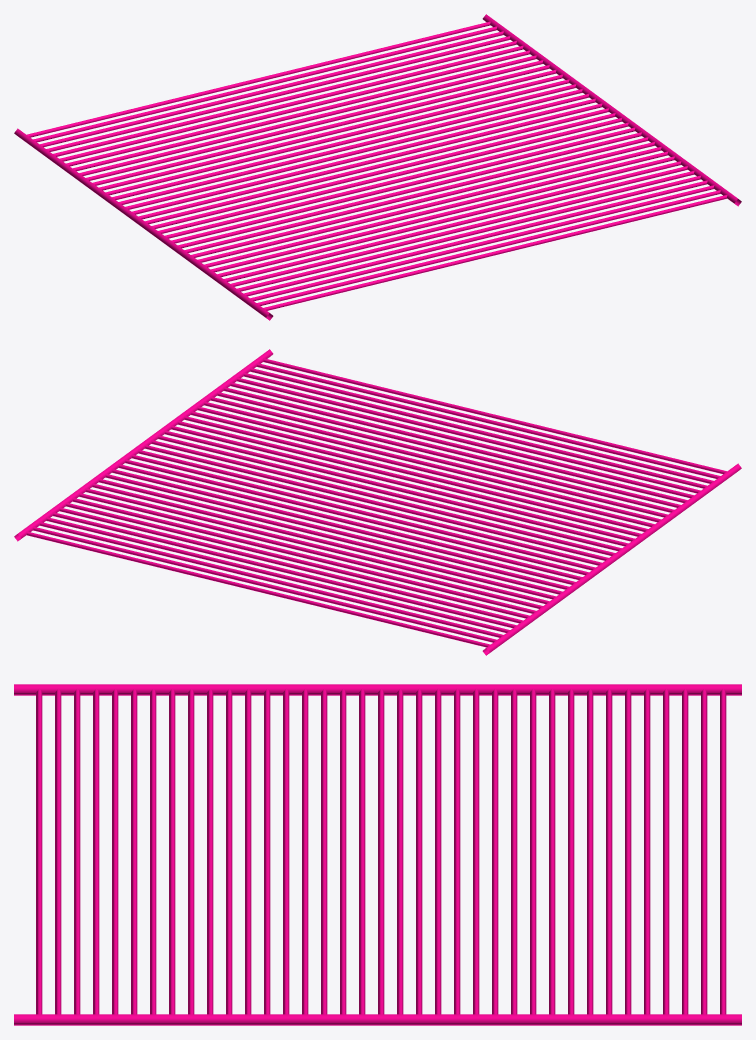
File: échelle_inf_public_accessible_tri.obj
The picture shows the model from 3 angles, top to bottom: view 1: azimuth 30°, elevation 25°; view 2: azimuth 150°, elevation 25°; view 3: azimuth 270°, elevation 25°; orthographic projection. The views are drawn at different scales.
Parts seen in each view (by area): view 1: échelle_inf_public_accessible_tri_0; view 2: échelle_inf_public_accessible_tri_0; view 3: échelle_inf_public_accessible_tri_0.
Boxes of the visible parts, <box> form: échelle_inf_public_accessible_tri_0: <box>14,14,741,320</box>; échelle_inf_public_accessible_tri_0: <box>14,349,741,655</box>; échelle_inf_public_accessible_tri_0: <box>14,684,741,1025</box>.
Size of the model in its own units: 6.27 by 0.1 by 5.75.
